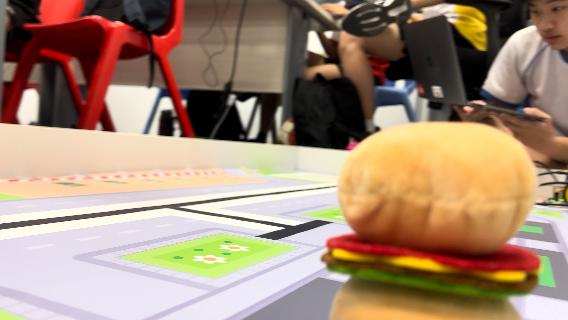burger: (321, 121, 547, 317)
